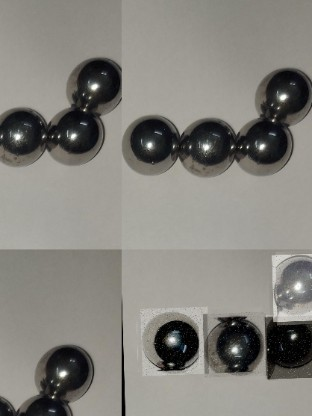ironball: (139, 307, 208, 376), (180, 110, 239, 183), (202, 312, 267, 378), (68, 56, 130, 120), (29, 337, 92, 399), (232, 112, 291, 173), (124, 111, 180, 175), (44, 104, 106, 161), (255, 63, 310, 120), (264, 316, 312, 380), (0, 105, 47, 168), (270, 254, 312, 323), (21, 394, 77, 414)
